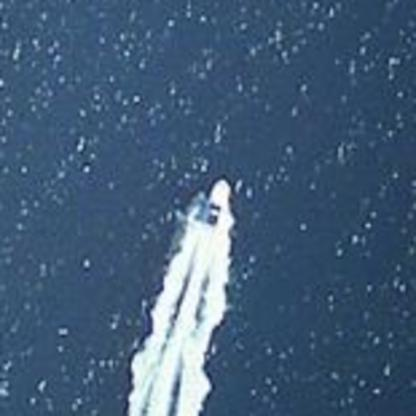ship: (193, 170, 237, 232)
